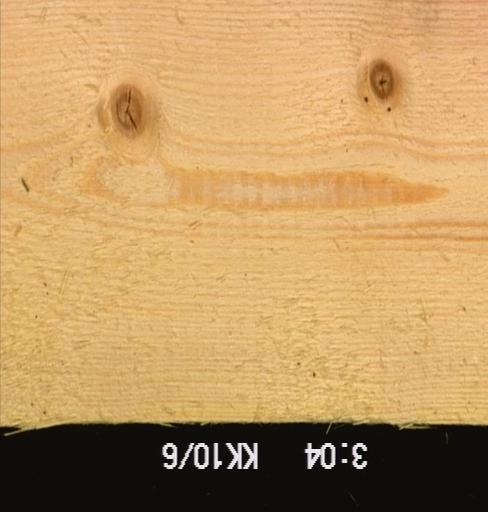sound_knot: (109, 81, 150, 137), (369, 60, 395, 100)
